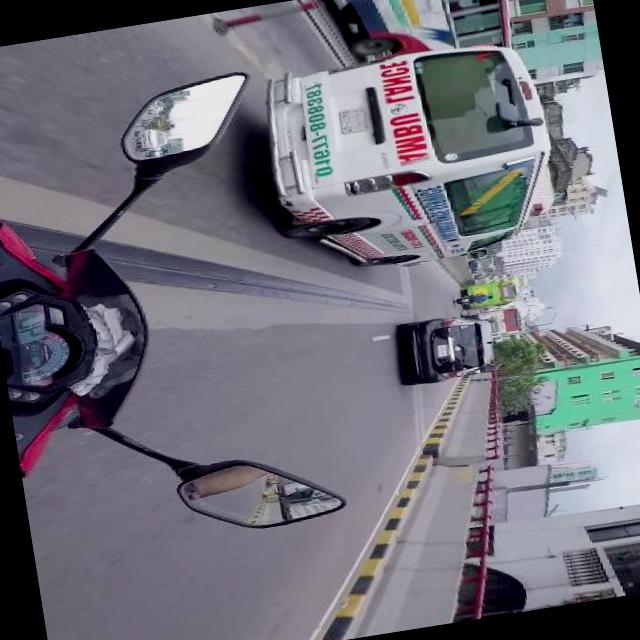bus: (335, 0, 515, 72), (459, 279, 519, 314), (472, 307, 522, 340), (469, 256, 496, 277), (486, 242, 506, 257)
car: (390, 307, 498, 389)
motorcycle: (0, 63, 356, 566), (454, 292, 496, 308), (468, 365, 503, 377), (491, 319, 503, 339), (474, 276, 484, 282)
truck: (254, 31, 570, 290)
